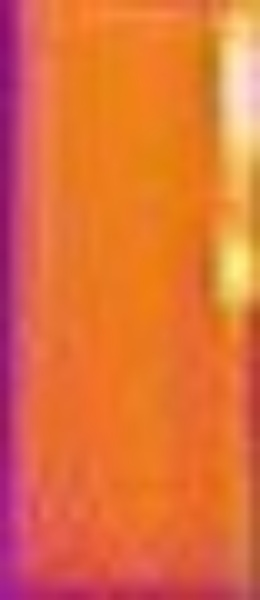Diode: (209, 2, 260, 324)
